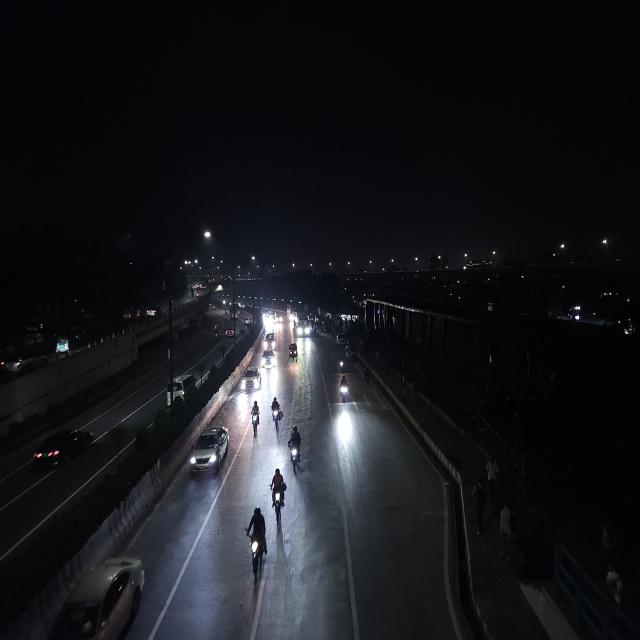bicycle: (362, 366, 371, 391)
bus: (294, 308, 312, 338)
car: (30, 551, 148, 640), (30, 426, 94, 472), (187, 422, 231, 482), (165, 371, 199, 406), (240, 365, 262, 393), (260, 348, 277, 370), (334, 331, 348, 348), (264, 331, 276, 350), (145, 306, 161, 320), (224, 327, 236, 340)
cng: (55, 334, 72, 355), (286, 340, 300, 364)
motorcycle: (243, 503, 269, 580), (268, 466, 289, 521), (287, 422, 304, 473), (268, 394, 284, 433), (248, 398, 262, 438), (337, 372, 352, 404), (336, 354, 346, 375)
